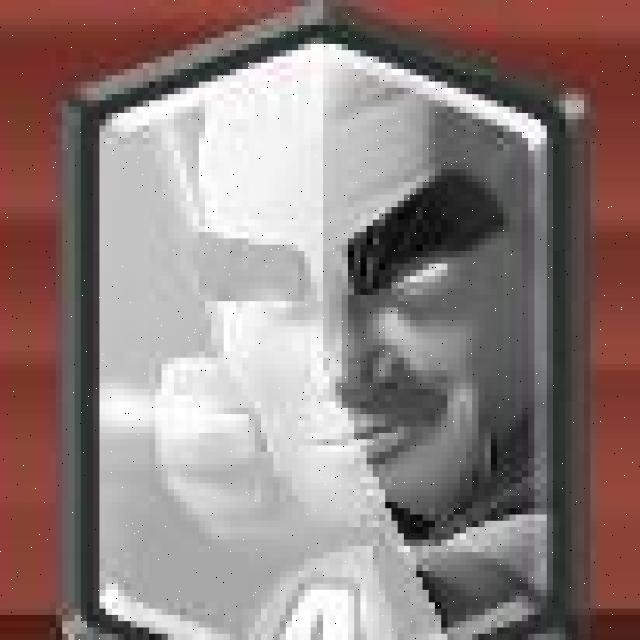Magic_Archer: (76, 10, 580, 640)
